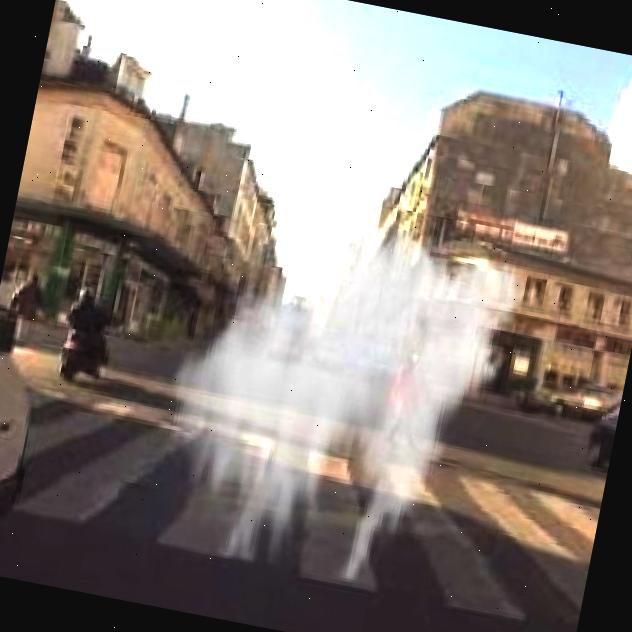smoke: (151, 169, 546, 585)
